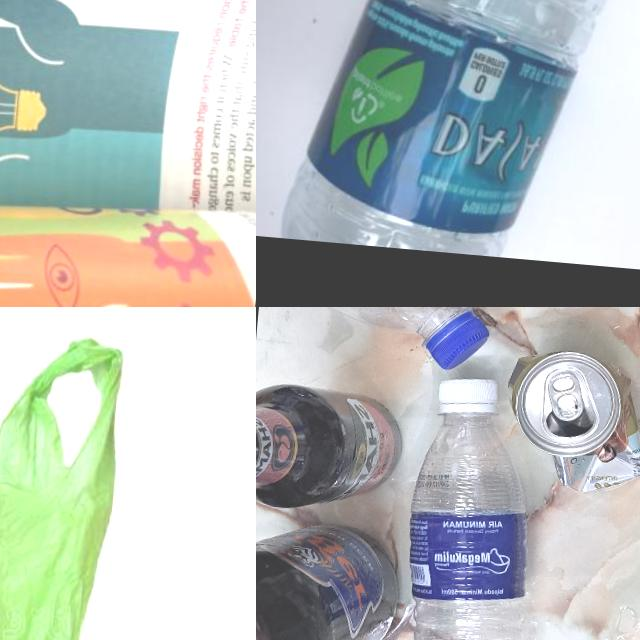aba de lata: (547, 368, 587, 422)
garrafa de vidro: (256, 381, 406, 519), (256, 513, 403, 640)
garrafa plástica: (279, 0, 640, 268), (391, 410, 546, 640)
lata: (497, 343, 640, 499)
papel: (0, 0, 256, 307)
sacola plástica: (0, 307, 135, 640)
tampa plástica: (424, 308, 492, 372), (437, 374, 500, 420)
